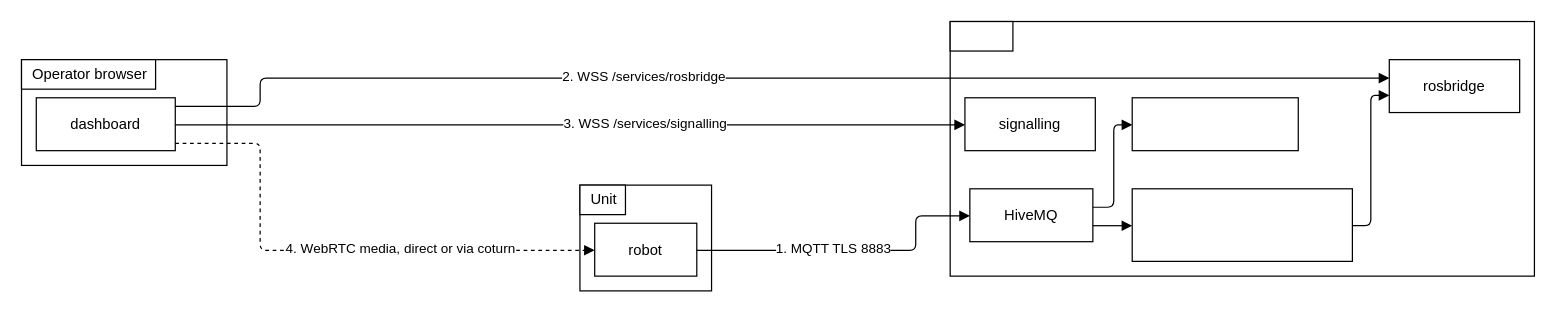
Image size: 1556x312. Some labels were removed from this diagram. The box of each missing label's shape, as (x1, y1, x2, y2) in pixels:
backend_node: (1131, 97, 1298, 151)
Server: (949, 20, 1013, 51)
unit_relays (one shared fleet relay): (1131, 188, 1352, 261)
